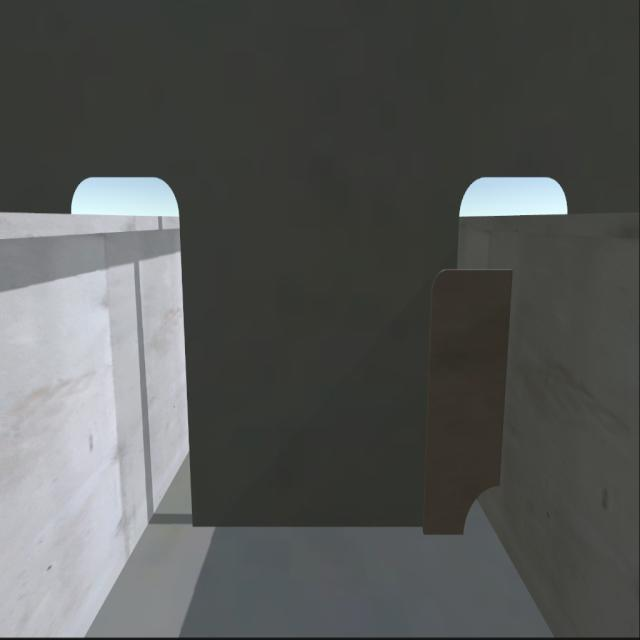fillet_hole: (460, 479, 500, 537)
fillet_yong_jeop_jang: (186, 518, 472, 538)
longi_yong_jeop_jang: (490, 270, 516, 484)
plate_CP05: (424, 268, 514, 534)
